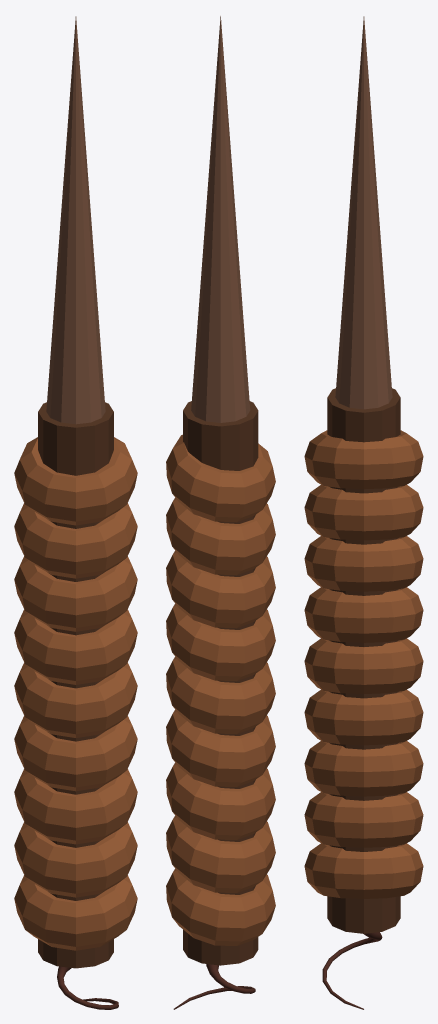
Rendered from Wand 429.glb.
The picture shows the model from 3 angles, left to right: view 1: azimuth 90°, elevation 25°; view 2: azimuth 150°, elevation 25°; view 3: azimuth 270°, elevation 25°; orthographic projection. The views are drawn at different scales.
Parts seen in each view (by area): view 1: GeneratedWand; view 2: GeneratedWand; view 3: GeneratedWand.
Part boxes in pixels (x1,y1,x2,y2): GeneratedWand: [14, 16, 137, 1009]; GeneratedWand: [166, 16, 275, 1009]; GeneratedWand: [304, 16, 423, 1009].
Bounding box in the file's own units: 0.0508 × 0.5245 × 0.0581.
